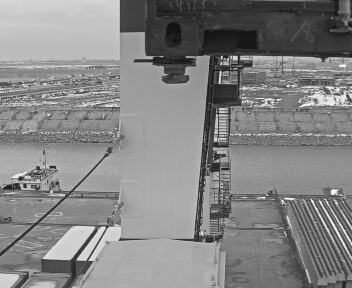twist_lock_1: (142, 51, 200, 90)
